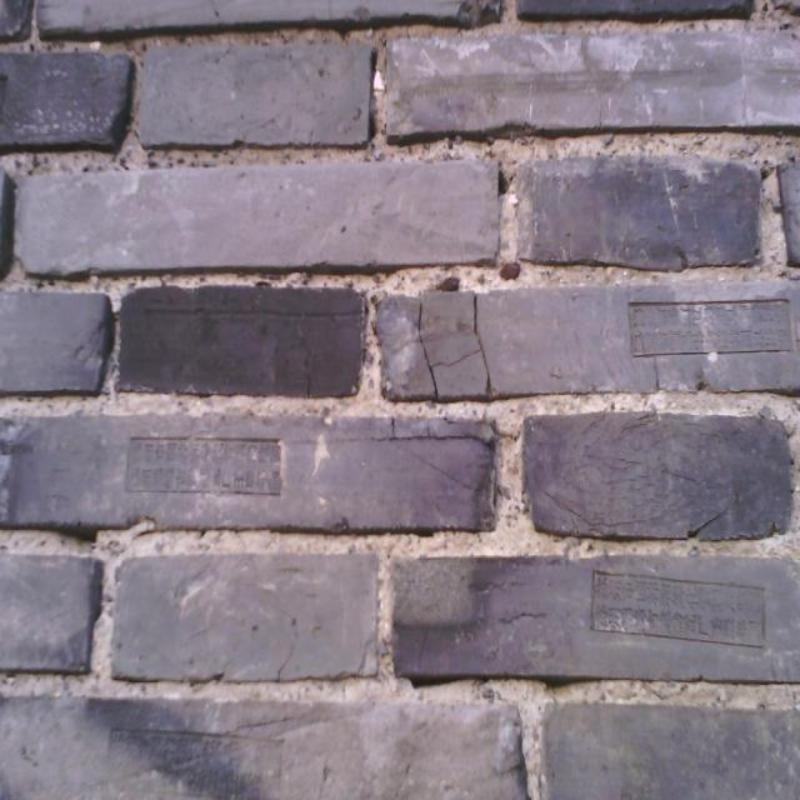crack: (418, 295, 493, 402), (368, 419, 496, 453), (278, 636, 298, 682), (688, 514, 721, 538), (62, 531, 98, 545), (412, 678, 451, 688), (542, 678, 571, 689), (497, 170, 505, 195)
